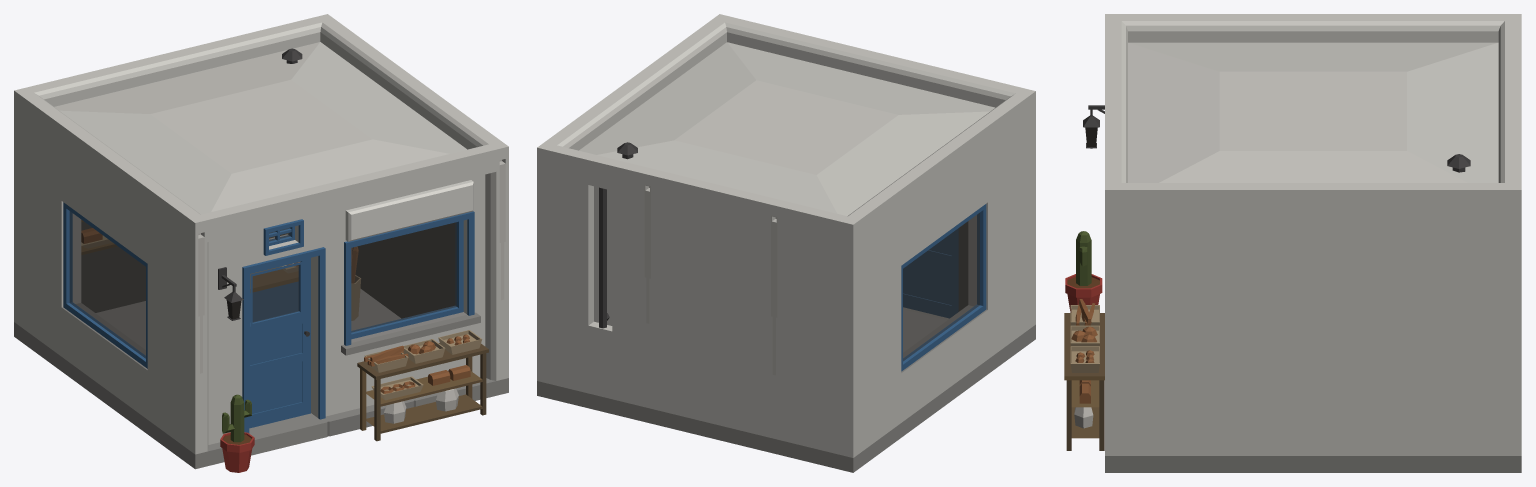
File: village-shopfront-d3088e.glb
The picture shows the model from 3 angles, left to right: view 1: azimuth 30°, elevation 25°; view 2: azimuth 150°, elevation 25°; view 3: azimuth 270°, elevation 25°; orthographic projection. The views are drawn at different scales.
Visible parts, largest first — view 1: shop-body, shop-glass; view 2: shop-body, shop-glass; view 3: shop-body.
Boxes of the visible parts, x1=… form: shop-body: x1=14, y1=14, x2=508, y2=472; shop-glass: x1=69, y1=211, x2=456, y2=358; shop-body: x1=537, y1=14, x2=1035, y2=472; shop-glass: x1=903, y1=213, x2=979, y2=361; shop-body: x1=1064, y1=14, x2=1521, y2=472.
Bounding box in the file's own units: 4 × 3 × 4.39.
